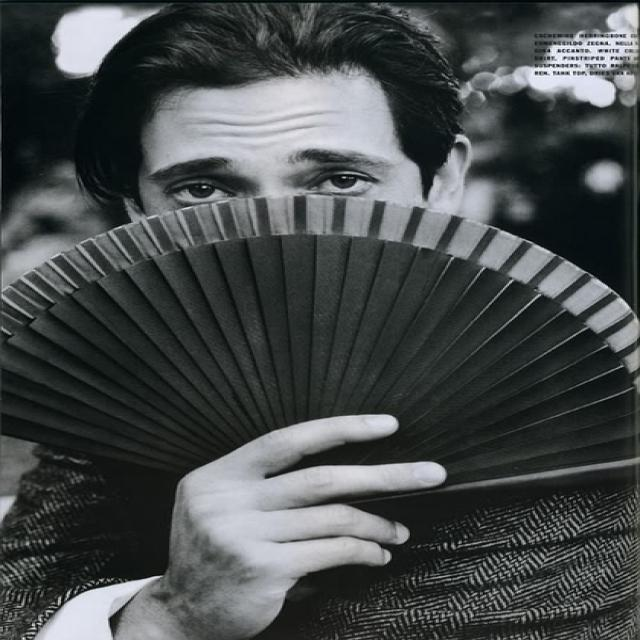nomask: (145, 71, 413, 394)
